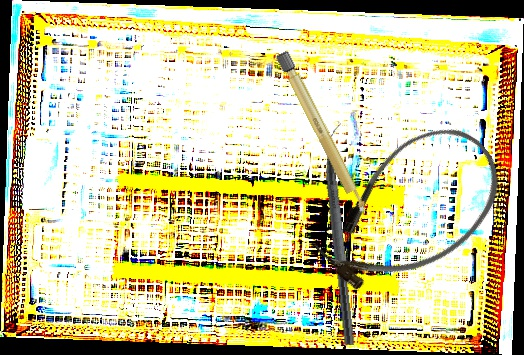Cannula: (297, 105, 524, 317)
Chopper: (317, 120, 370, 347)
Scalpel Handle: (275, 50, 370, 218)
